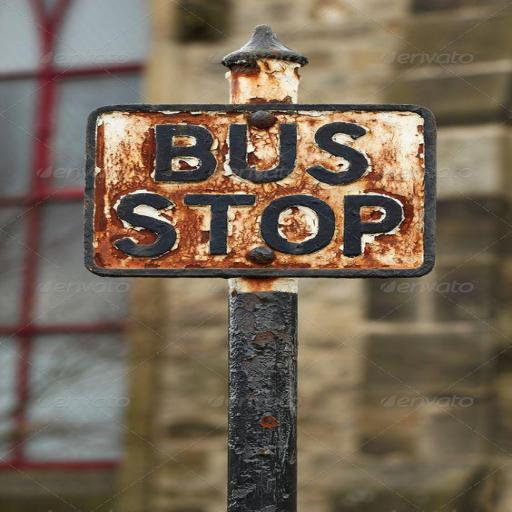segmentation: (84, 25, 436, 511), (227, 289, 297, 511)
